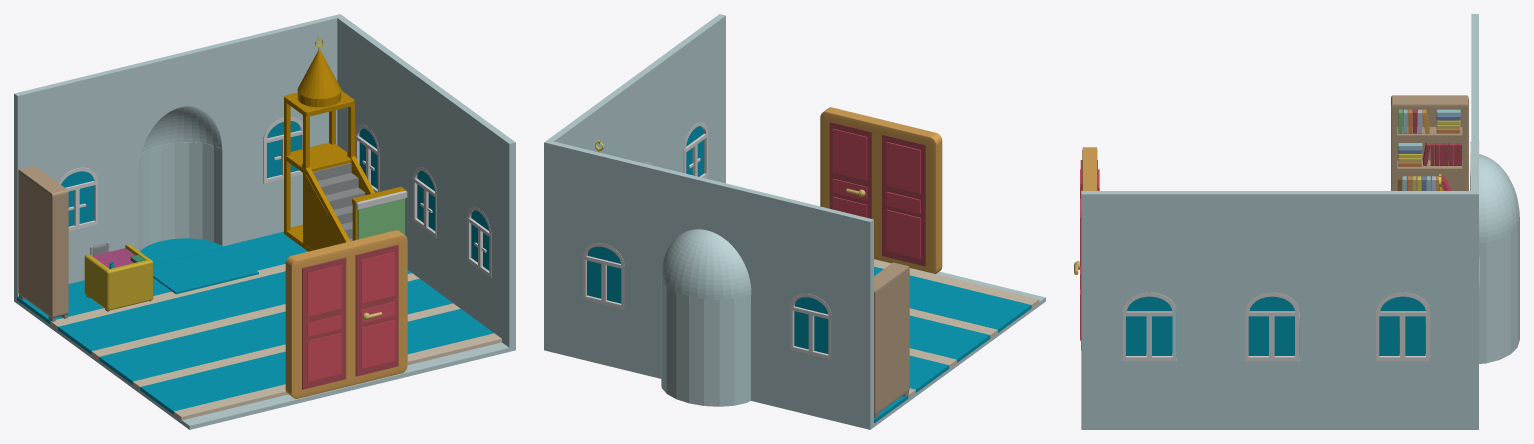
The model's file is Cami Mosque.glb.
3 views of the same model, side by side, from view 1: azimuth 30°, elevation 25°; view 2: azimuth 150°, elevation 25°; view 3: azimuth 270°, elevation 25° (orthographic). The views are drawn at different scales.
Visible parts, largest first — view 1: Mesh_Mesh_head_geo.001_lambert2SG.001; view 2: Mesh_Mesh_head_geo.001_lambert2SG.001; view 3: Mesh_Mesh_head_geo.001_lambert2SG.001.
Part boxes in pixels (bbox=[...]): Mesh_Mesh_head_geo.001_lambert2SG.001: bbox=[14, 14, 515, 429]; Mesh_Mesh_head_geo.001_lambert2SG.001: bbox=[544, 14, 1045, 429]; Mesh_Mesh_head_geo.001_lambert2SG.001: bbox=[1074, 14, 1519, 429].
Size of the model in its own units: 198 by 120 by 206.
